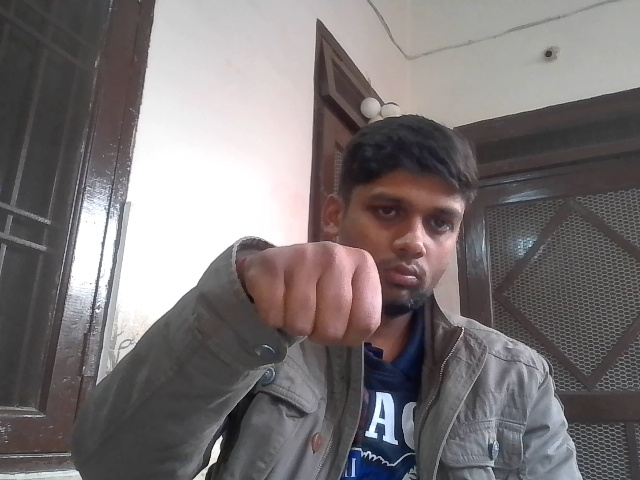Yes: (235, 229, 429, 356)
